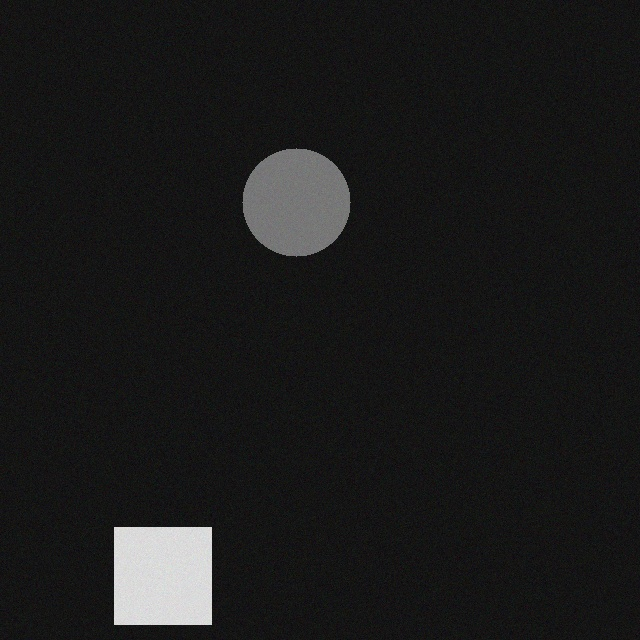circle: (231, 140, 339, 248)
square: (103, 519, 200, 616)
